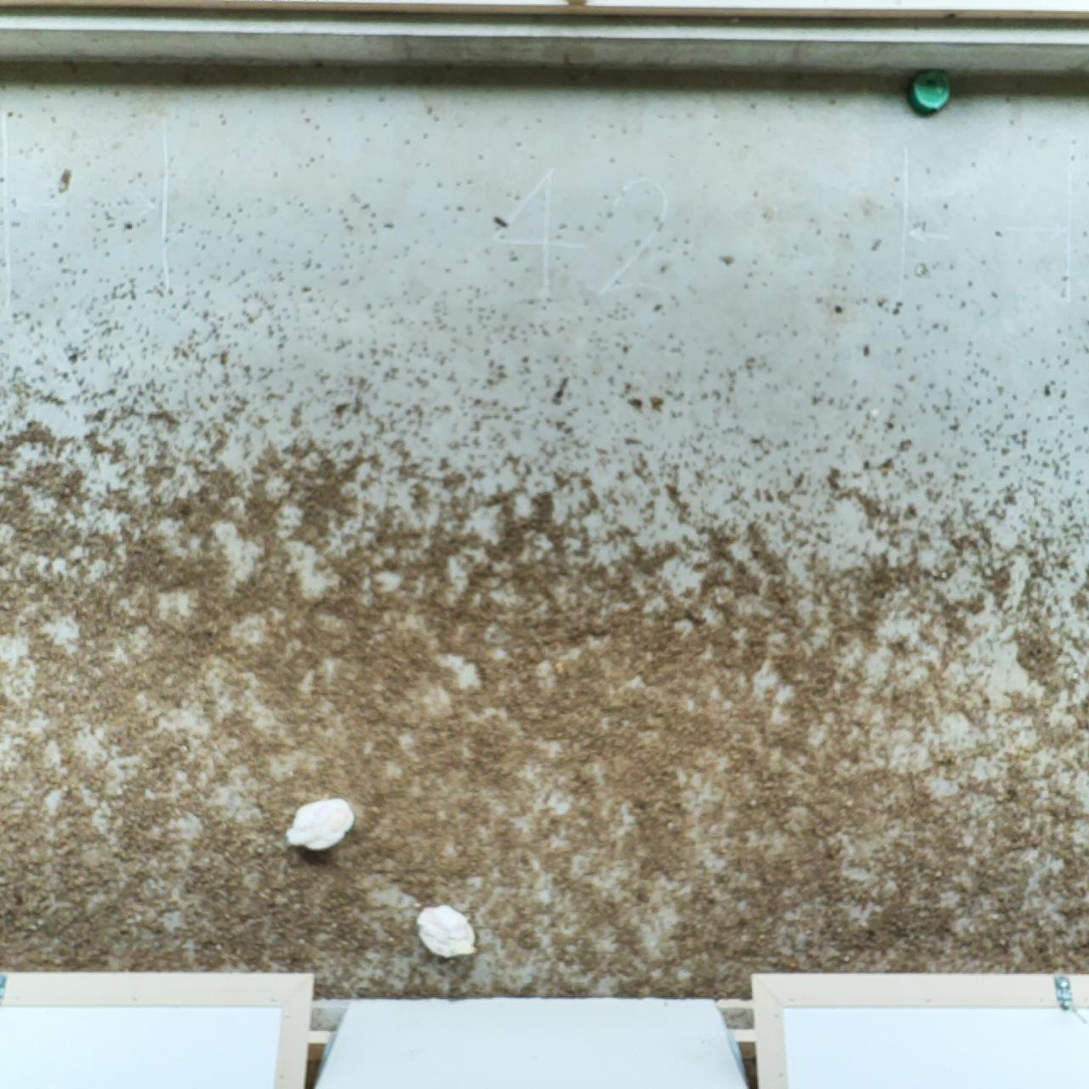chicken: (286, 794, 359, 857), (412, 898, 483, 962)
